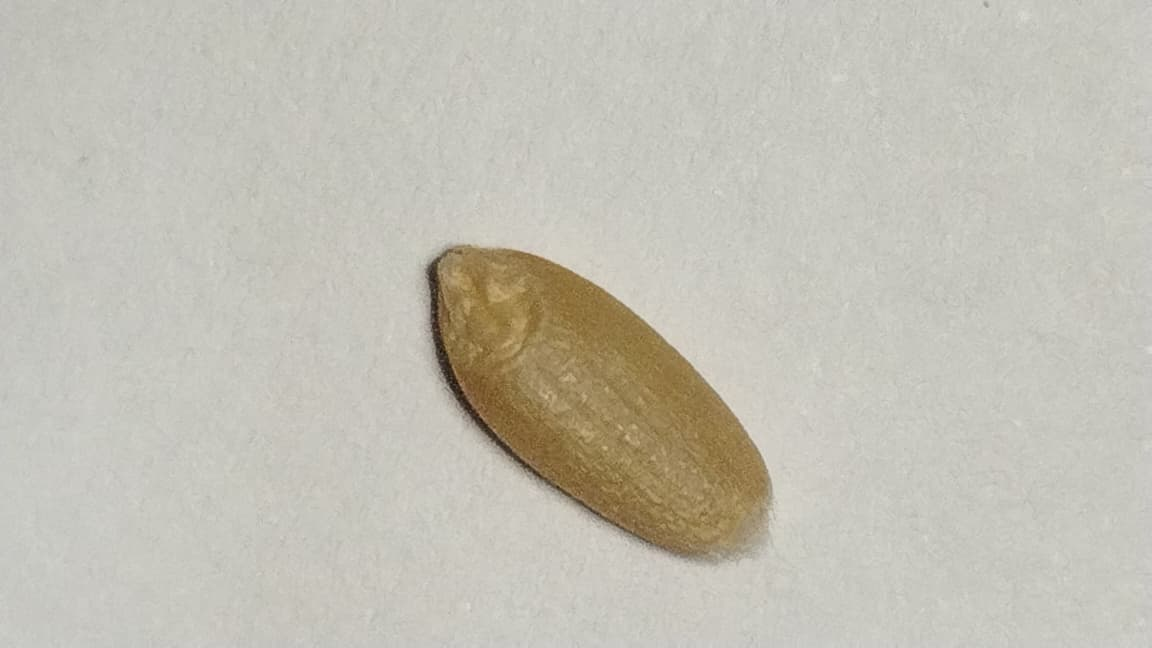healthy: (427, 245, 771, 562)
